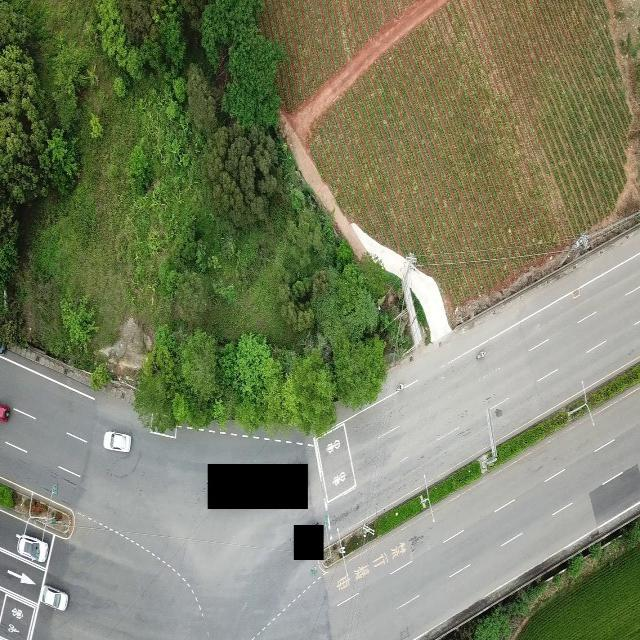bike: (476, 349, 486, 360)
car: (16, 533, 50, 565), (38, 585, 69, 612), (105, 429, 132, 452), (0, 402, 11, 423)
